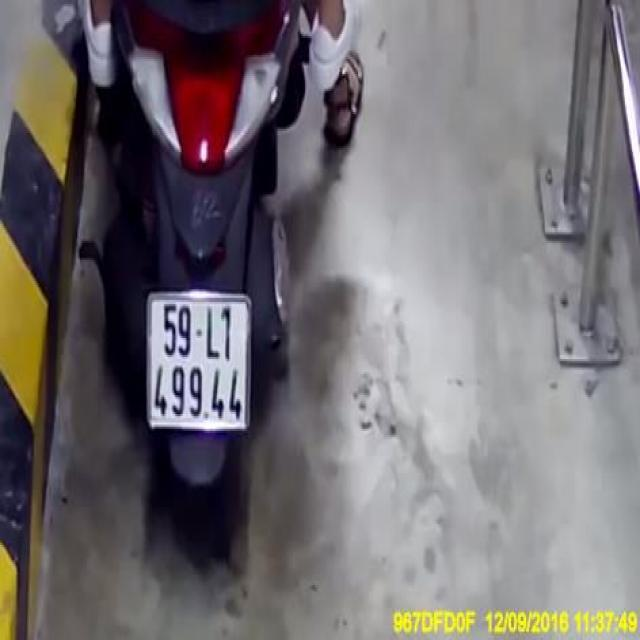motorcycle: (80, 0, 302, 563)
plate: (140, 287, 254, 435)
